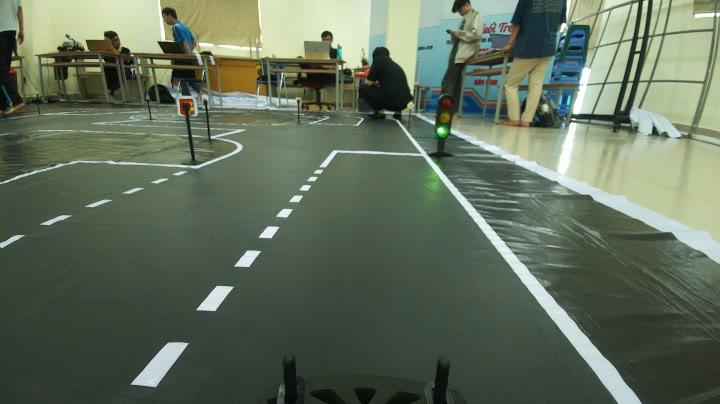trafficlight: (427, 92, 458, 162)
